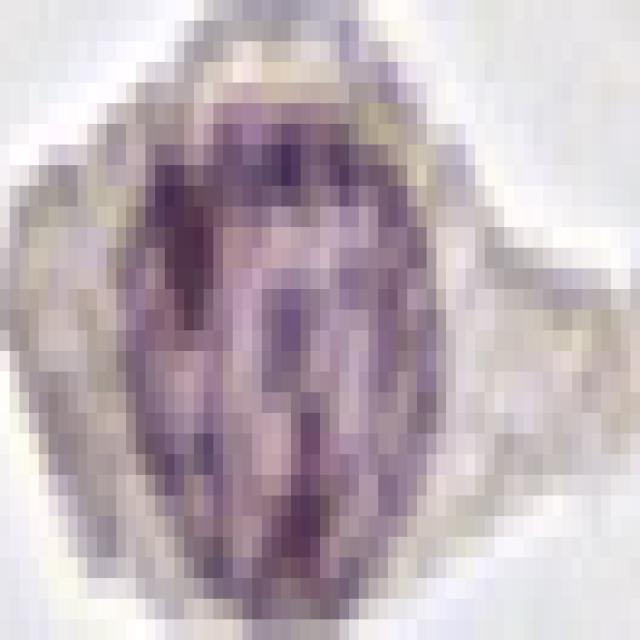nucleus: (92, 80, 480, 627)
